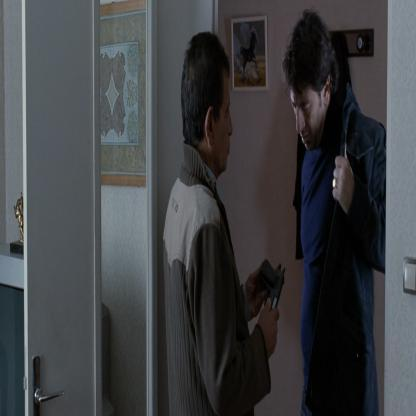gun: (255, 244, 289, 330)
